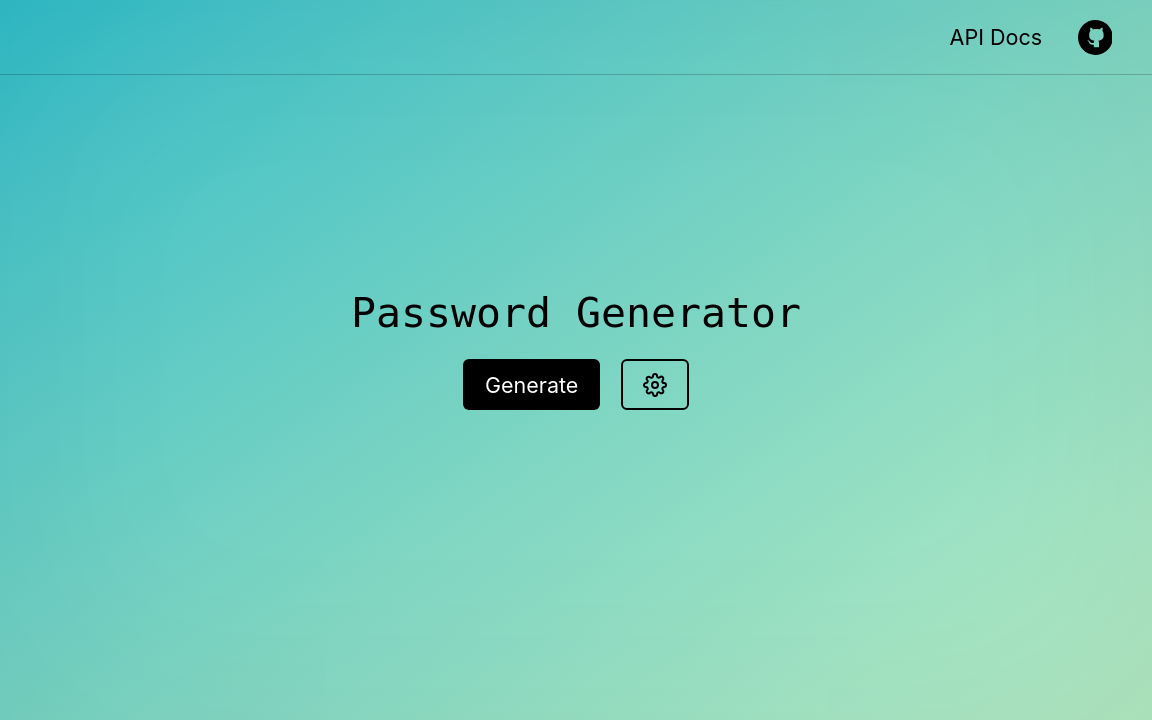
generates-password › has only numbers
The width and height of the screenshot is (1152, 720).
// open options panel
Click the button with id "options" at [656, 386], box [622, 360, 689, 411]
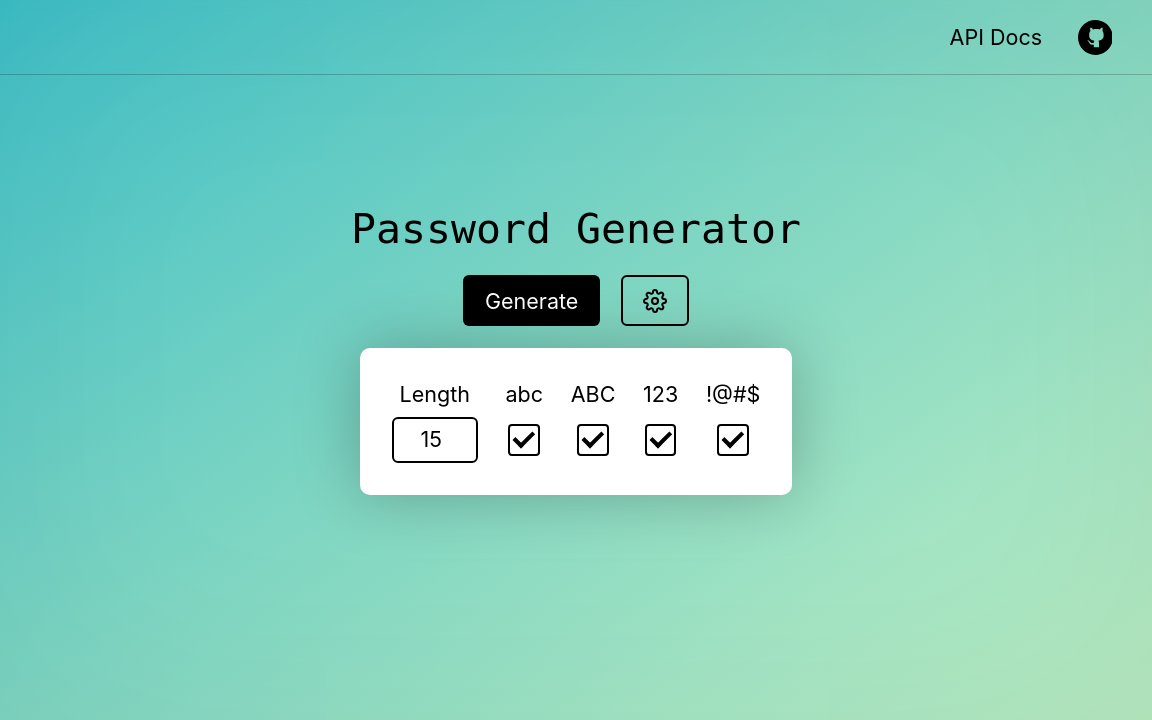
// uncheck all options except lowercase
Click the checkbox with id "lowercase" at [524, 440], box [508, 424, 540, 456]
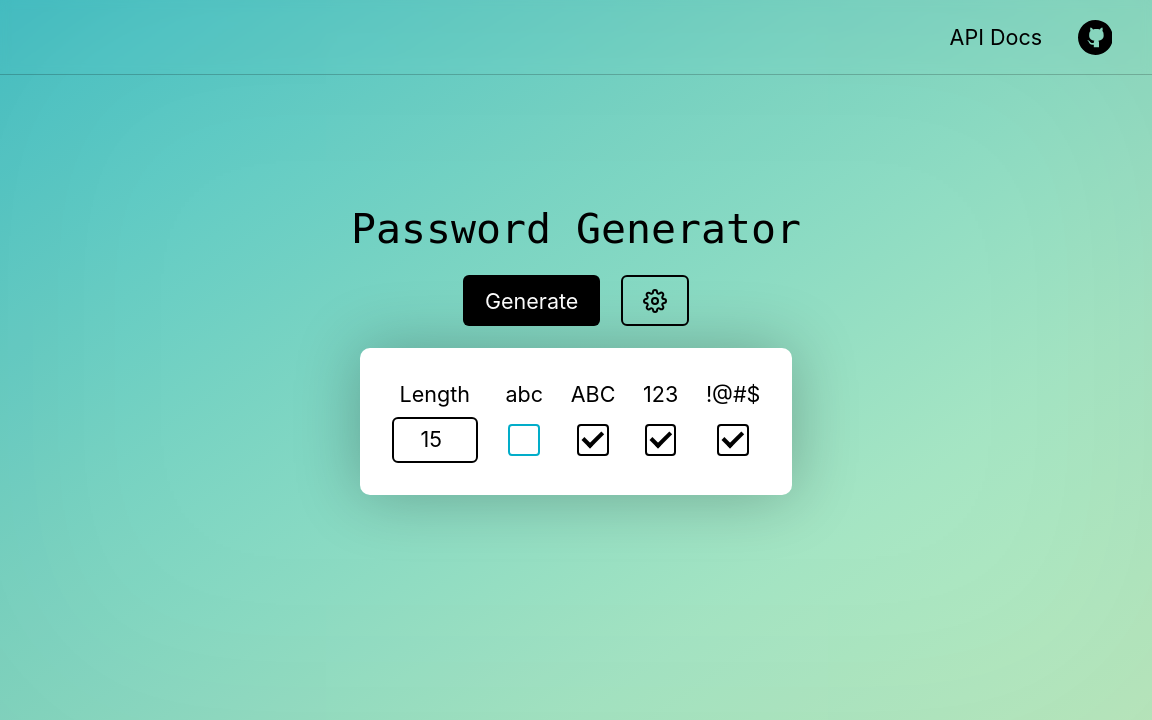
Click the checkbox with id "uppercase" at [593, 440], box [577, 424, 609, 456]
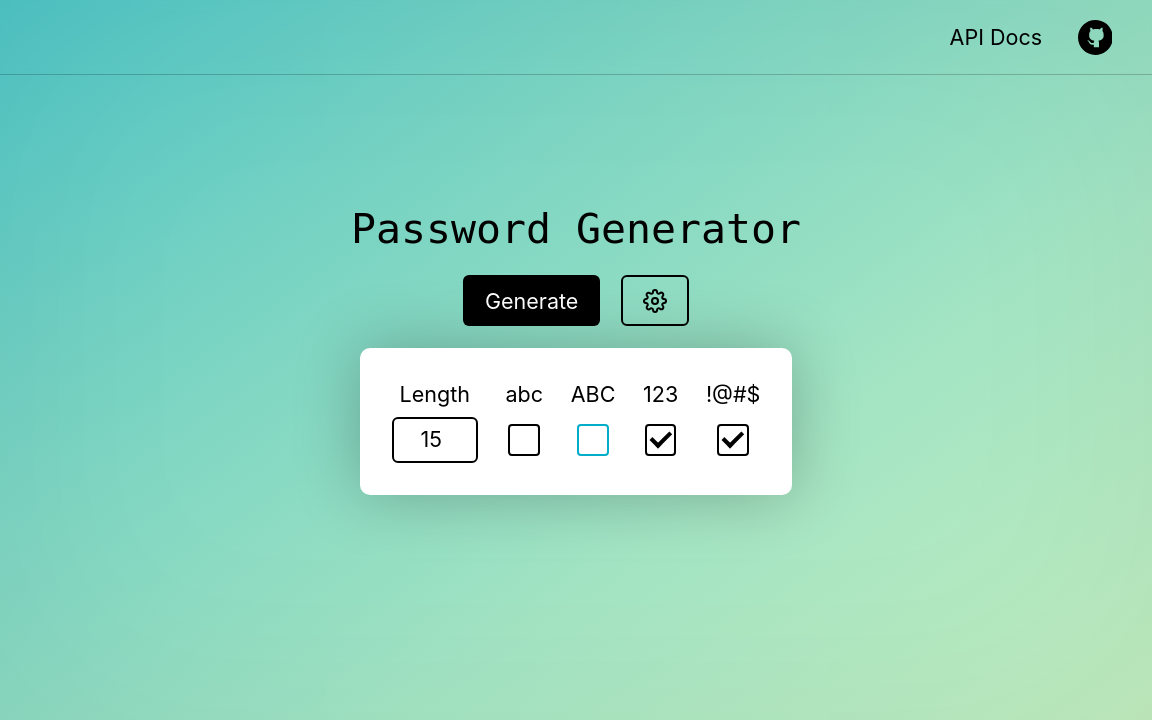
Click the checkbox with id "special" at [733, 440], box [717, 424, 749, 456]
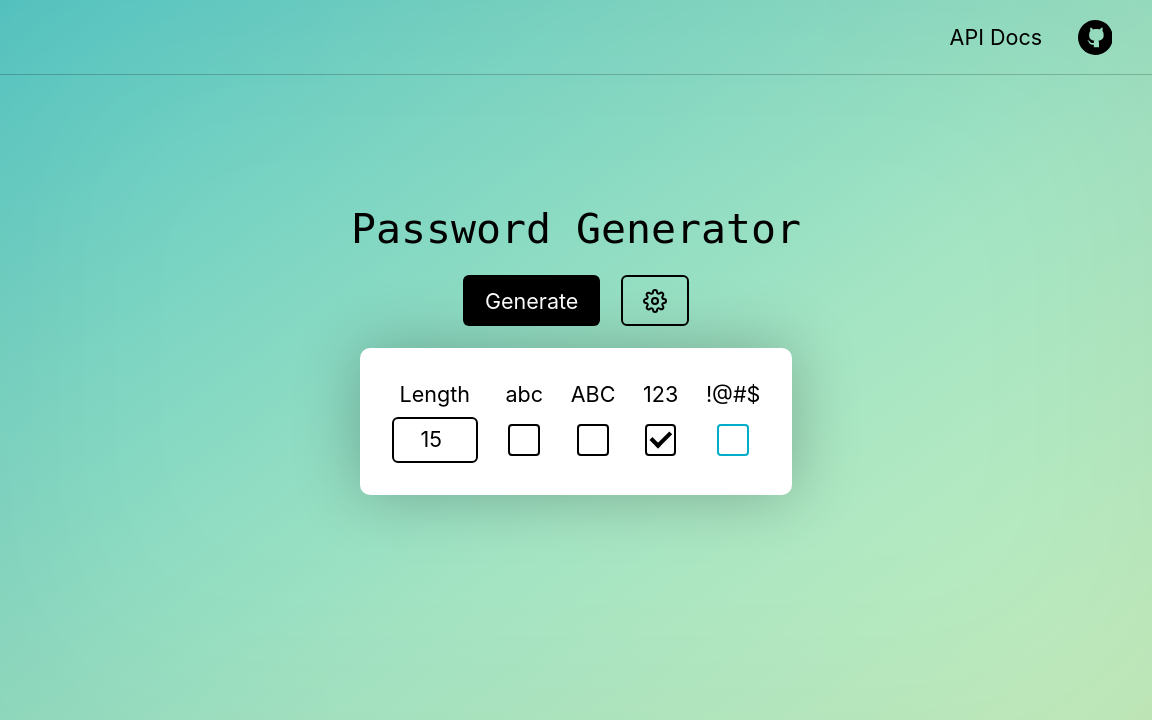
// click generate button
Click the button with id "button-generate" at [533, 301], box [464, 275, 601, 326]
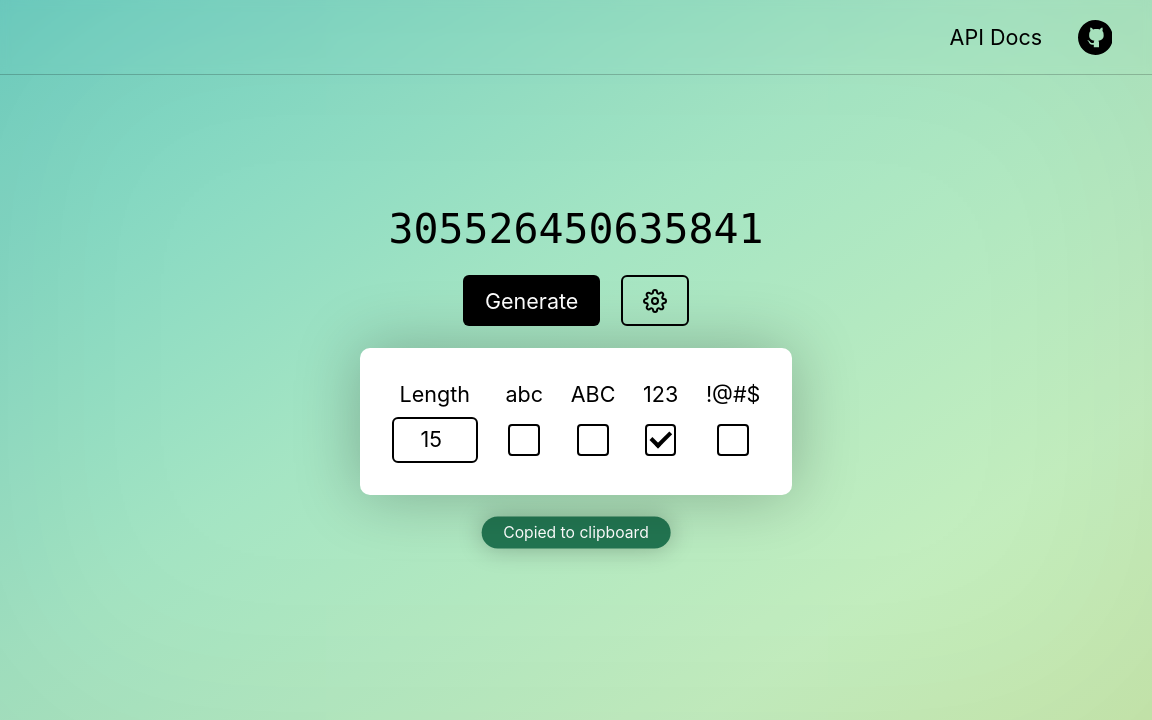
Check: the text "305526450635841" is shown, box [360, 204, 792, 254]
